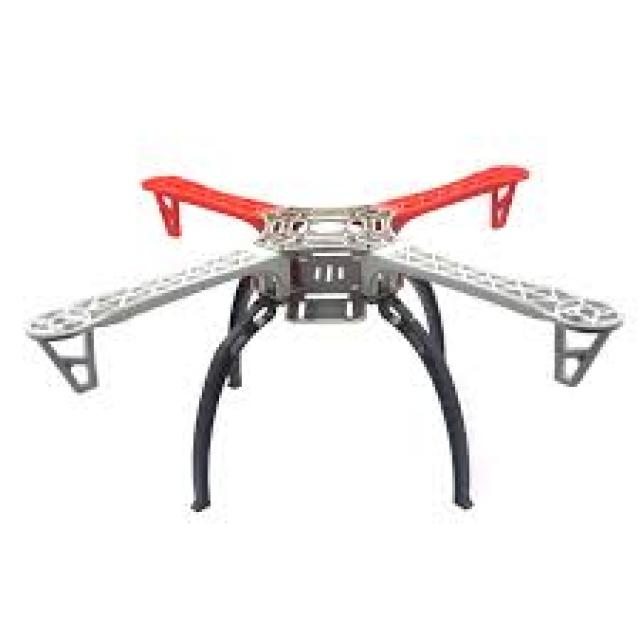drone: (32, 142, 632, 528)
